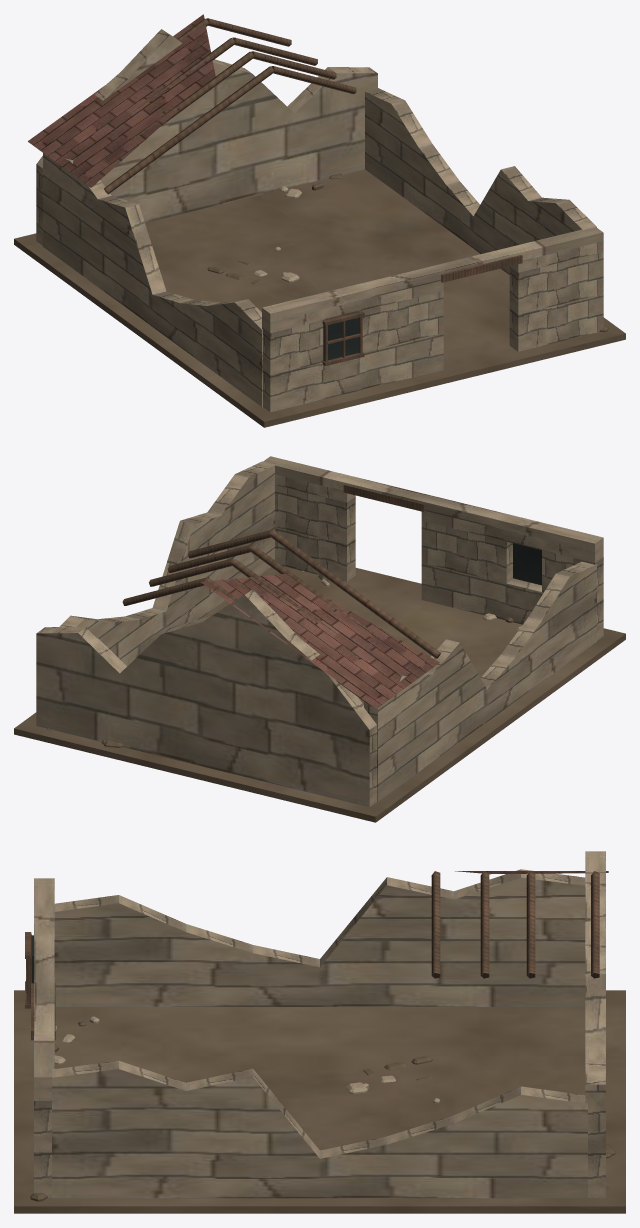
The model's file is farm-ruin.glb.
The picture shows the model from 3 angles, top to bottom: view 1: azimuth 30°, elevation 25°; view 2: azimuth 150°, elevation 25°; view 3: azimuth 270°, elevation 25°; orthographic projection. The views are drawn at different scales.
Parts seen in each view (by area): view 1: Hofruine; view 2: Hofruine; view 3: Hofruine.
Boxes of the visible parts, bbox=[...] form: Hofruine: bbox=[14, 14, 625, 427]; Hofruine: bbox=[14, 456, 625, 822]; Hofruine: bbox=[14, 851, 625, 1213].
Bounding box in the file's own units: 10.1 × 5.1 × 12.1.
Materials: 1 (1 with a texture image).
